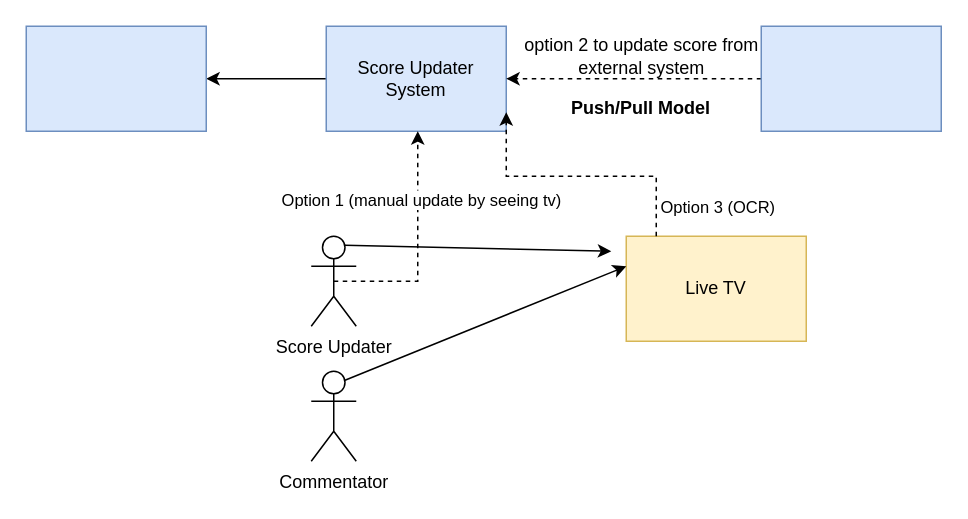
Some shapes in this 968 by 519 pixel diagram are drawn without their labels. Here are the shapes that lost their labels. From the top down, the centre of each, then its label:
point (115, 78): CricBuzz Web App
point (850, 78): Score Board System
